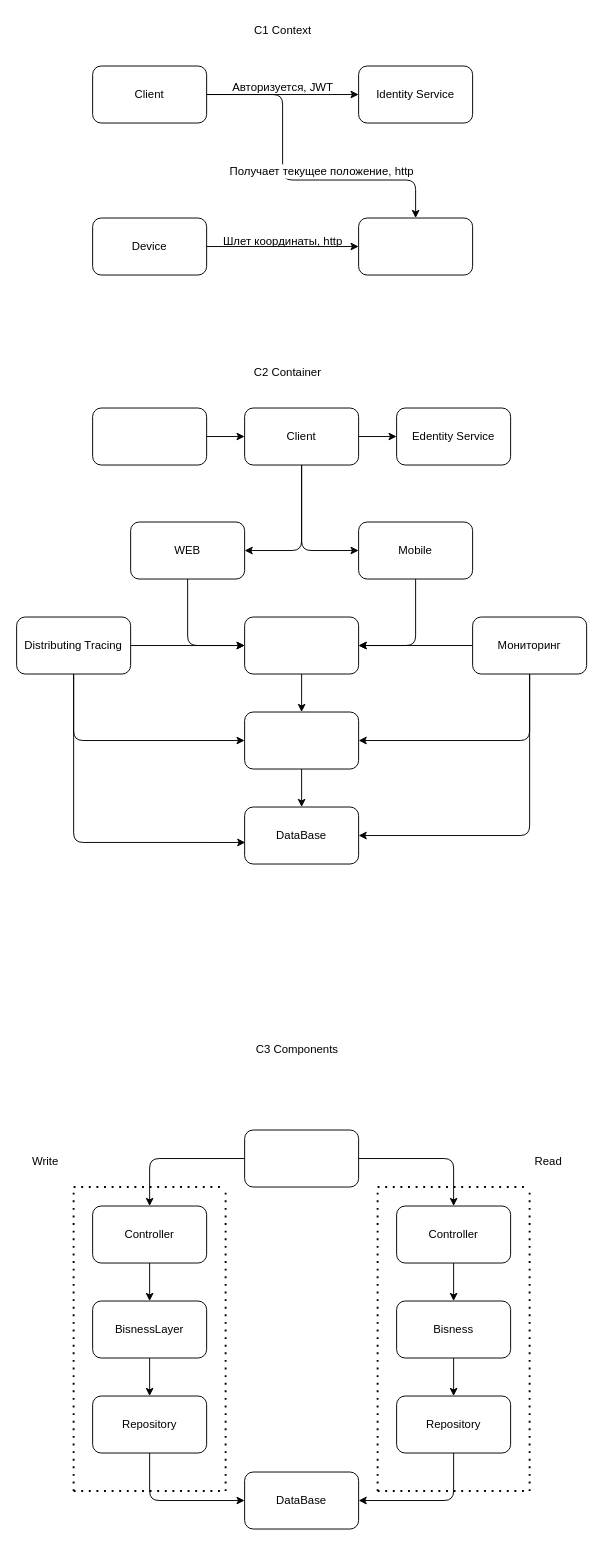
Some shapes in this 603 by 1546 pixel diagram are drawn without their labels. Each missing label, with the box of its shape:
API Gateway: (244, 616, 359, 674)
Application: (358, 217, 473, 275)
EMail Server: (92, 407, 207, 465)
Gateway: (244, 1129, 359, 1187)
WebServer: (244, 711, 359, 769)
